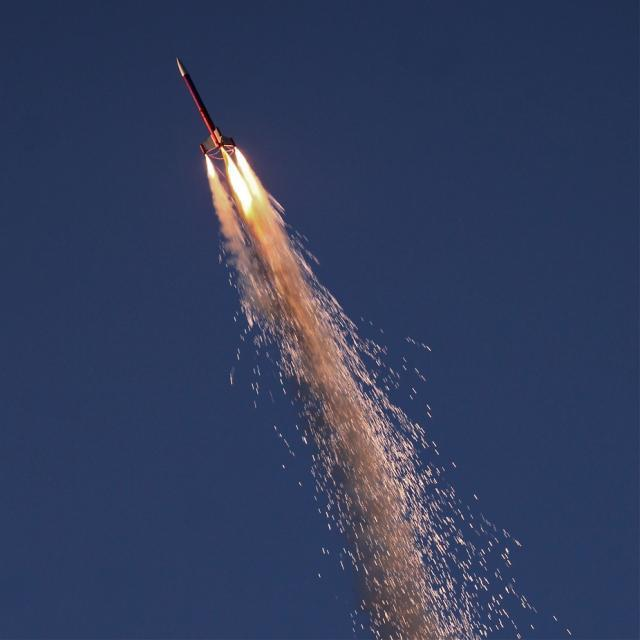missile: (168, 48, 238, 159)
